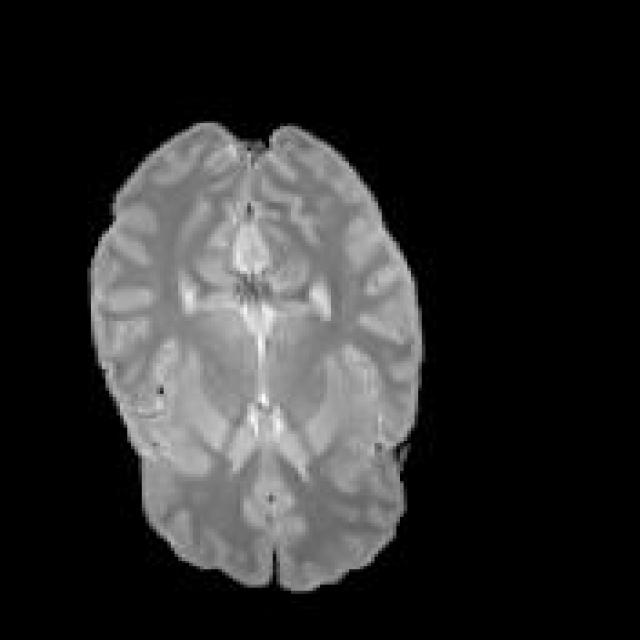CONTROL: (83, 117, 426, 591)
